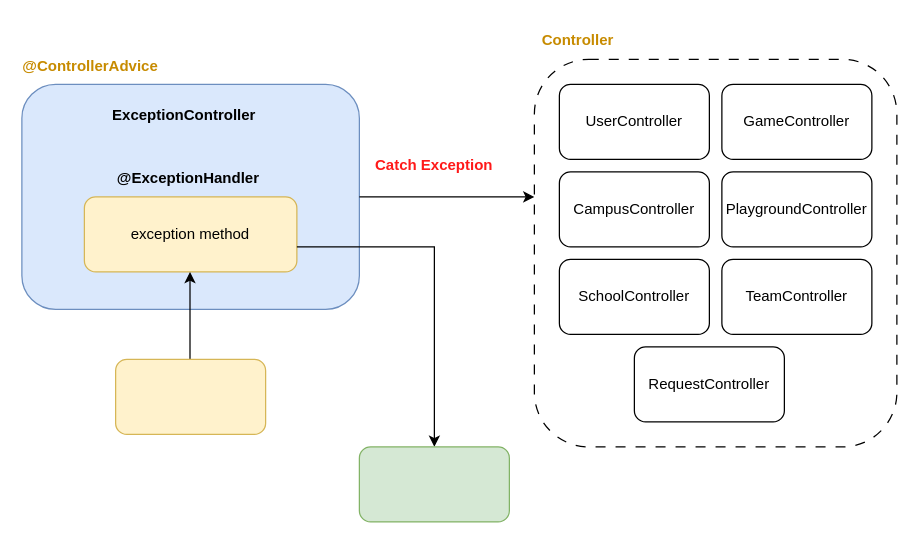
Image size: 919x544. Some labels were removed from this diagram. Each missing label, with the box of its shape:
HTTP ERROR: (358, 446, 509, 522)
RunTimeException: (114, 358, 266, 434)
